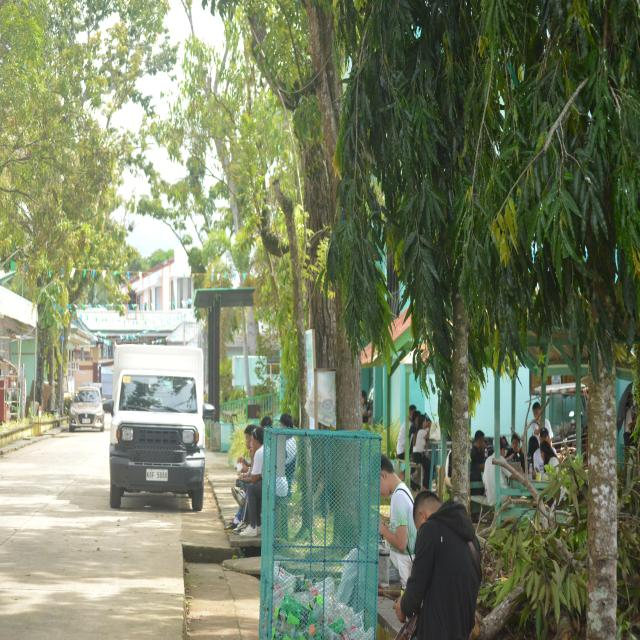person: (394, 491, 481, 639), (380, 455, 416, 588), (240, 427, 263, 537), (413, 415, 431, 488), (533, 428, 556, 475), (537, 440, 559, 480), (532, 402, 553, 443), (470, 430, 485, 482), (506, 434, 524, 471)
